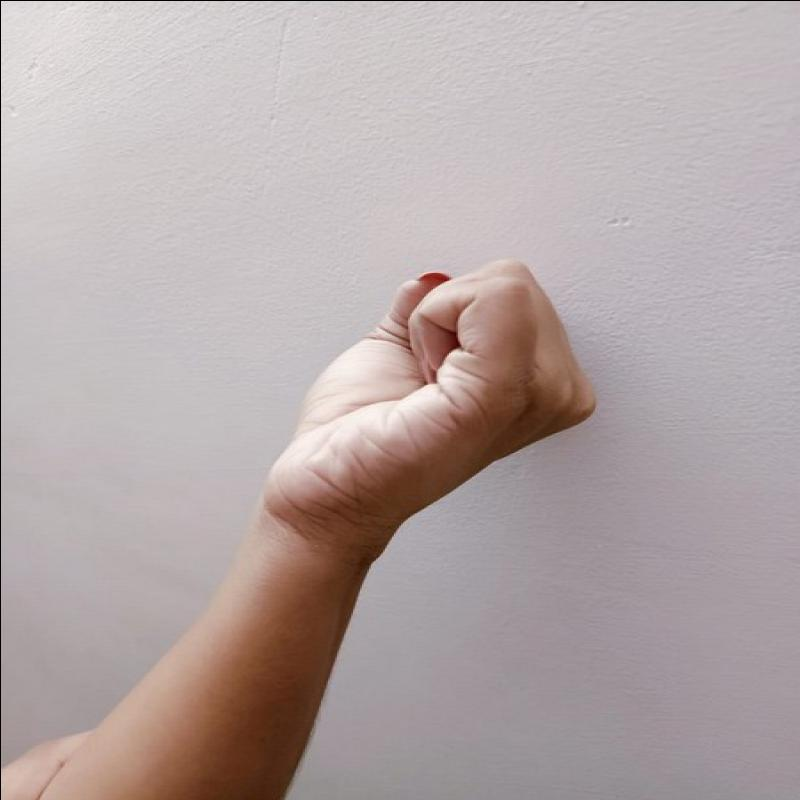Mushti: (247, 250, 612, 553)
